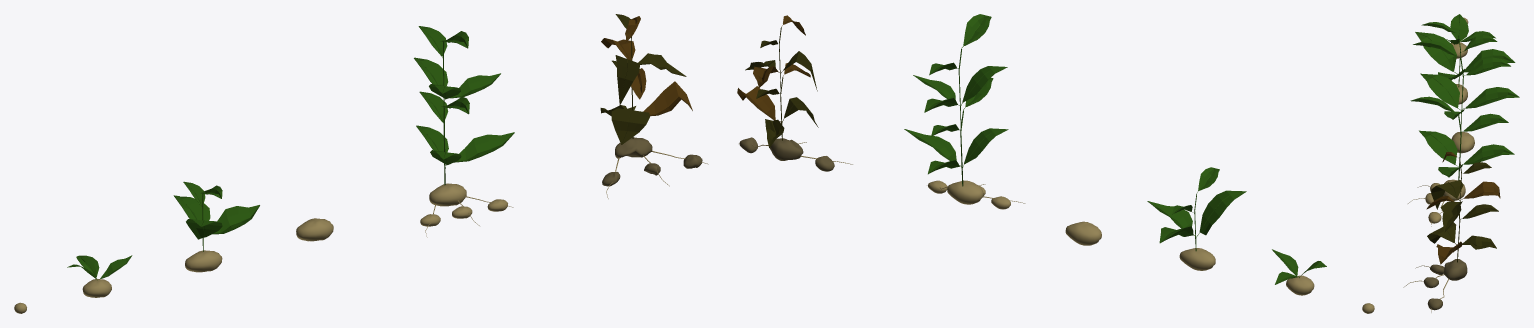
The model's file is Batata.fbx.
3 views of the same model, side by side, from view 1: azimuth 30°, elevation 25°; view 2: azimuth 150°, elevation 25°; view 3: azimuth 270°, elevation 25° (orthographic). The views are drawn at different scales.
Parts seen in each view (by area): view 1: BatataMadura, BatataMorrendo, BatataVerde, FolhaBatata, Batata; view 2: BatataMadura, BatataMorrendo, BatataVerde, FolhaBatata, Batata; view 3: BatataMadura, BatataMorrendo, BatataVerde, FolhaBatata, Batata.
Boxes of the visible parts, bbox=[...] form: BatataMadura: bbox=[414, 26, 514, 237]; BatataMorrendo: bbox=[600, 14, 708, 198]; BatataVerde: bbox=[173, 181, 259, 272]; FolhaBatata: bbox=[67, 255, 132, 297]; Batata: bbox=[296, 218, 333, 241]; BatataMadura: bbox=[904, 14, 1025, 209]; BatataMorrendo: bbox=[737, 15, 852, 171]; BatataVerde: bbox=[1147, 167, 1246, 270]; FolhaBatata: bbox=[1272, 249, 1326, 295]; Batata: bbox=[1065, 221, 1101, 245]; BatataMadura: bbox=[1408, 40, 1519, 226]; BatataMorrendo: bbox=[1403, 152, 1500, 312]; BatataVerde: bbox=[1415, 22, 1515, 104]; FolhaBatata: bbox=[1446, 14, 1495, 58]; Batata: bbox=[1451, 132, 1474, 153].
Bounding box in the file's own units: 181 × 49.57 × 30.93.
